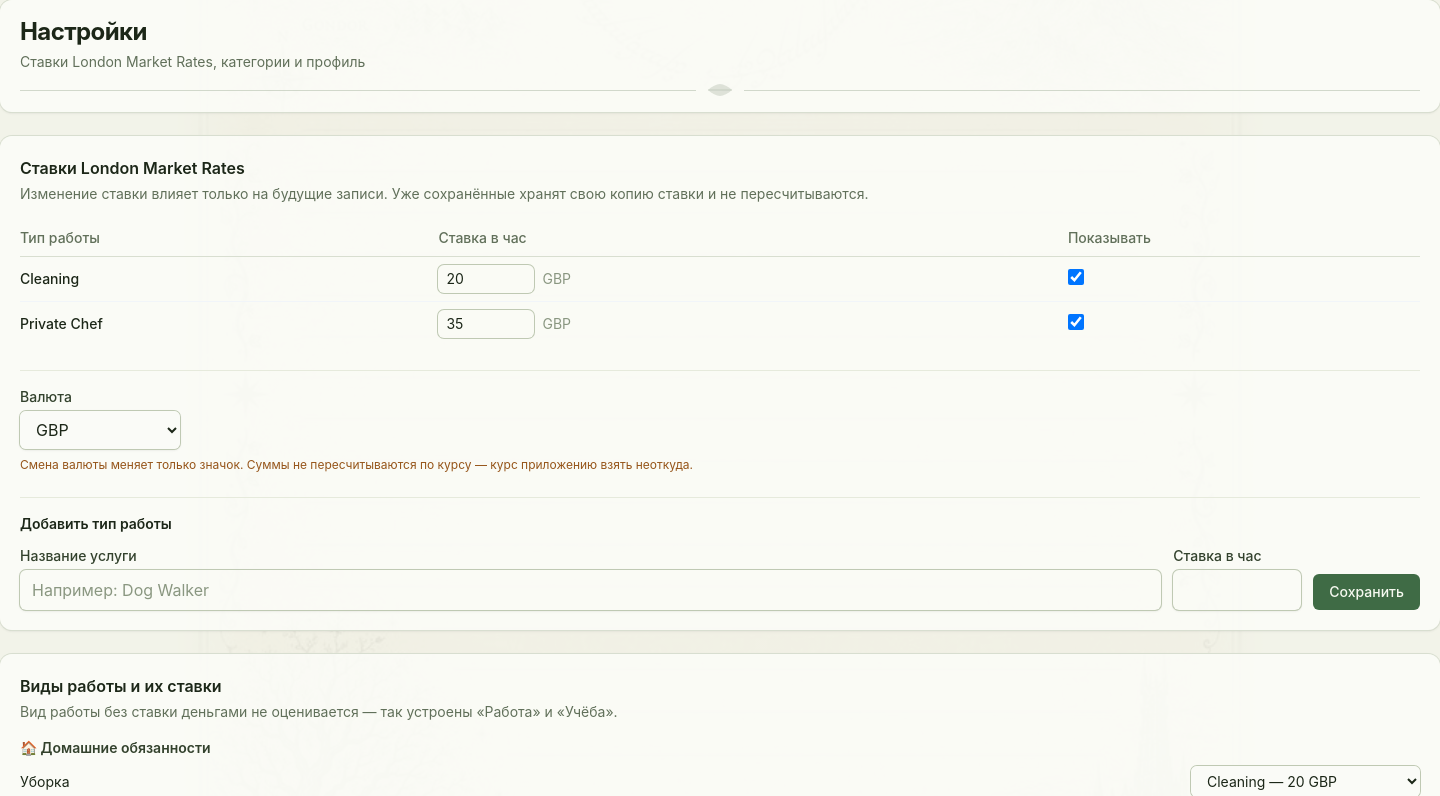
Test: SettingsPage › требует название и ставку больше нуля
Expected: the cell "Cleaning" is shown, left=20, top=256, right=438, bottom=302
Click the button "Сохранить" at (1367, 592), box left=1313, top=574, right=1420, bottom=610
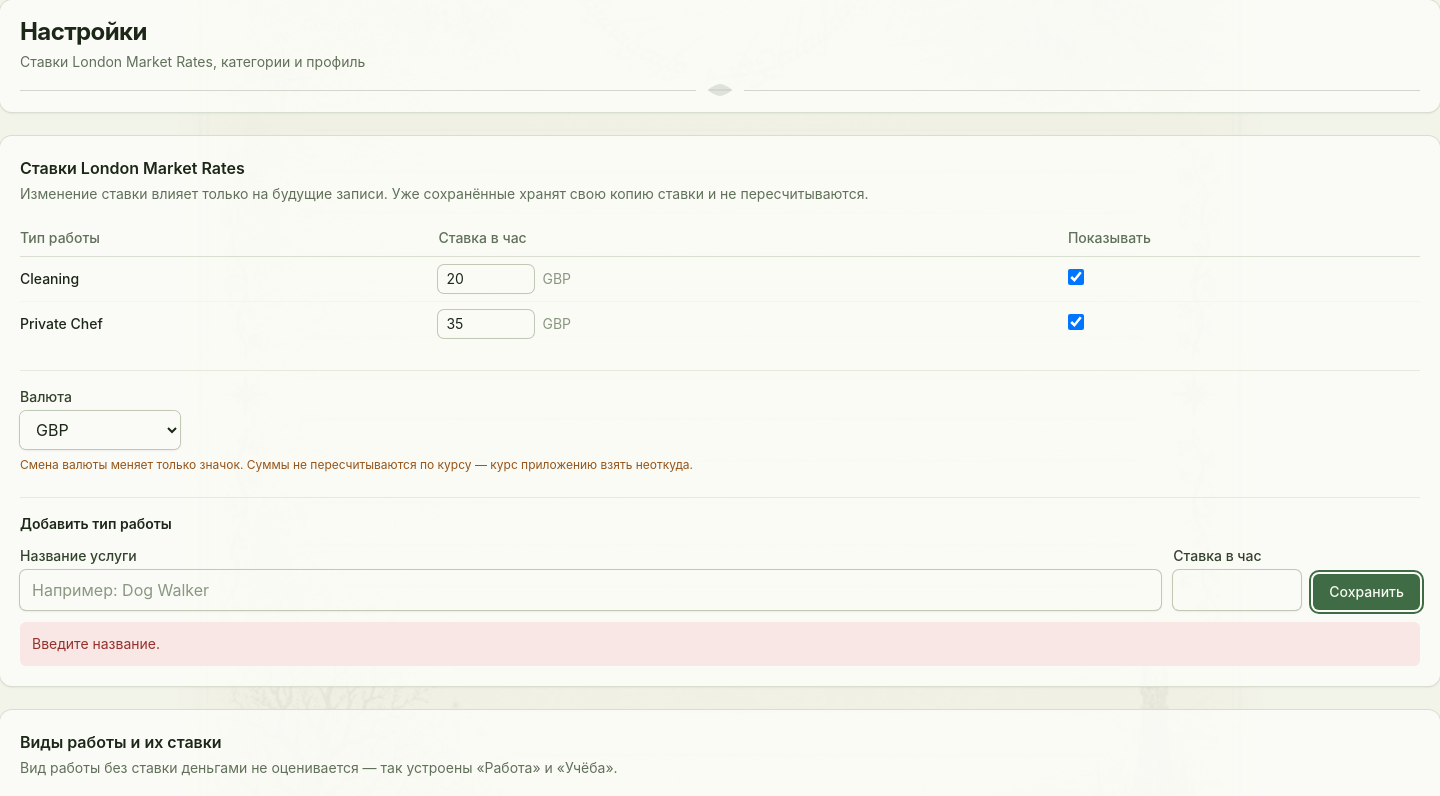
Now the message shows "Введите название", box left=32, top=635, right=160, bottom=652
